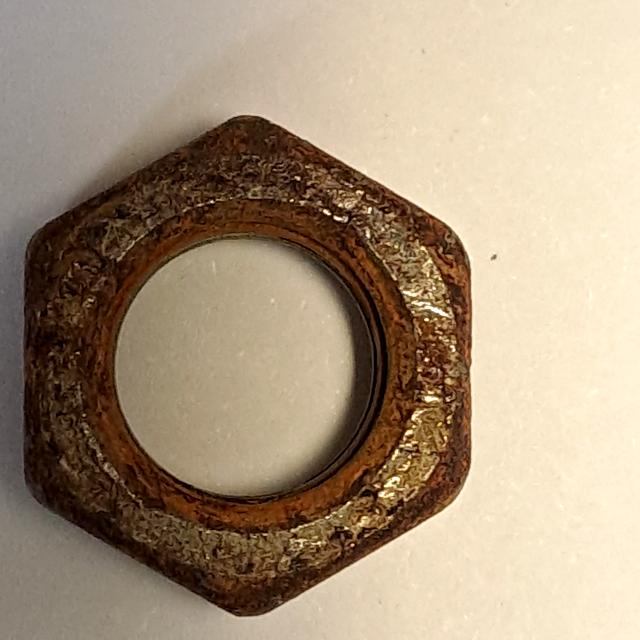Rust: (19, 79, 491, 628)
